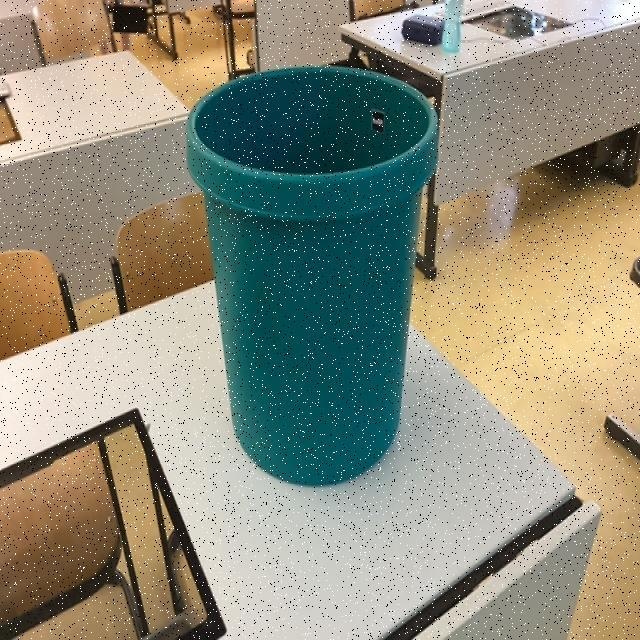garbage container: (179, 52, 453, 498)
